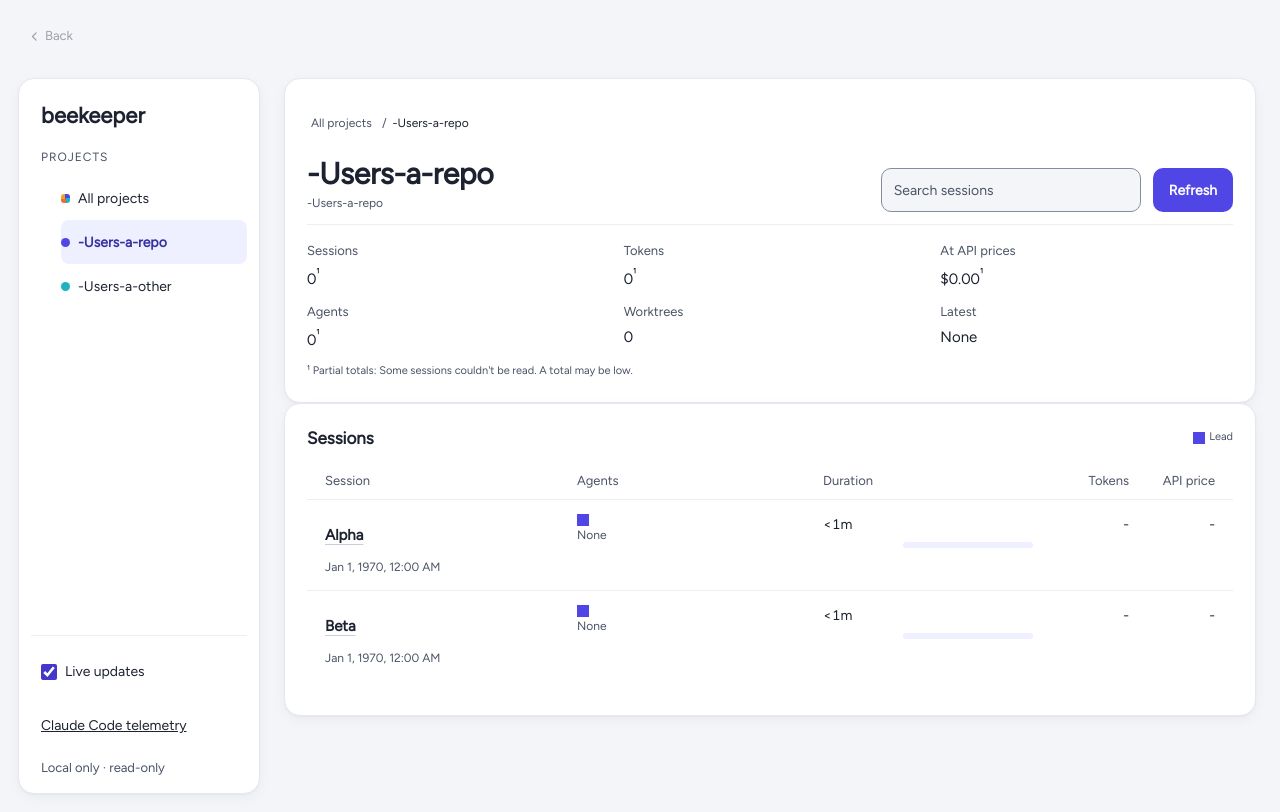
Scenario: session cards while the list refreshes in the background › a list old enough to be refetched as it opens › does the same for a folder opened after a Refresh in another one
The image size is (1280, 812).
Expected: the heading "Alpha" is shown, [325, 514, 363, 558]
Click the button "Refresh". click: (1193, 190)
box: [1153, 168, 1233, 212]
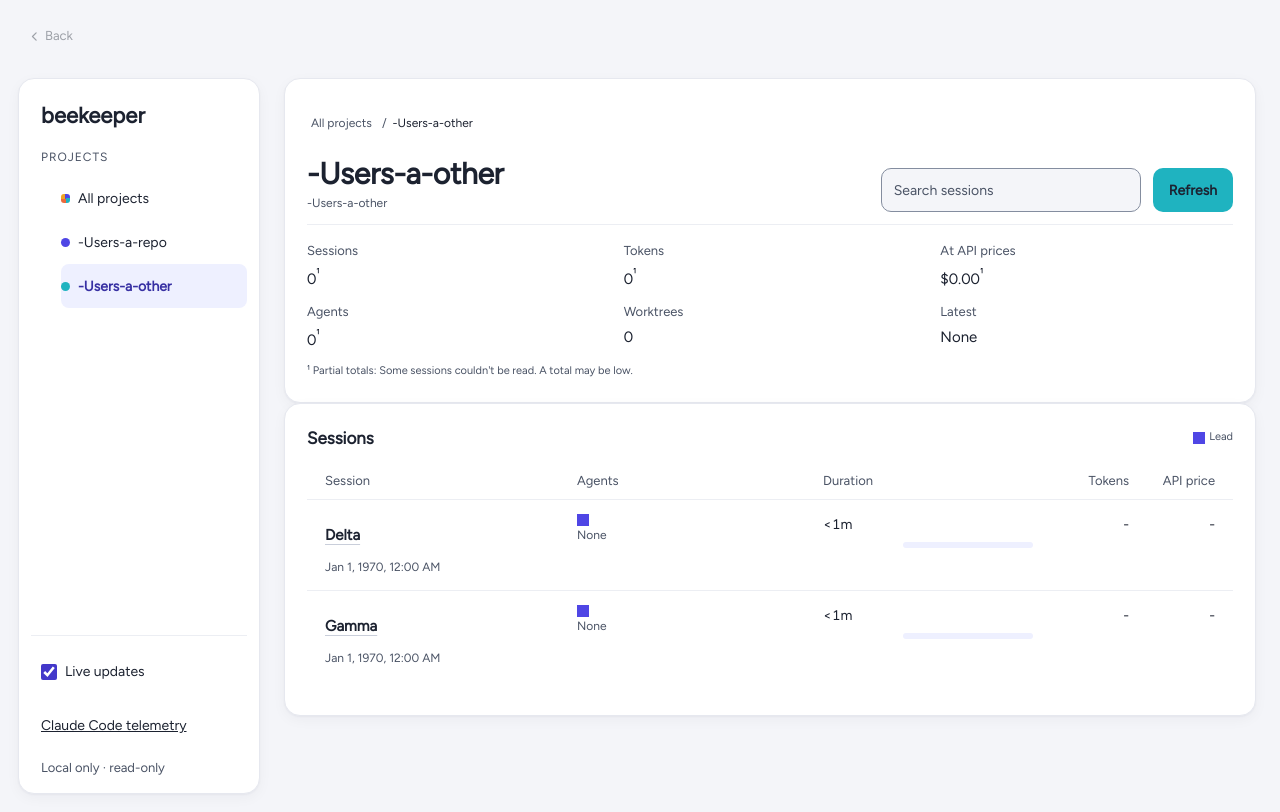
Expected: the headings read "Delta", "Gamma", in this order, [325, 514, 360, 558]; [325, 604, 377, 648]
